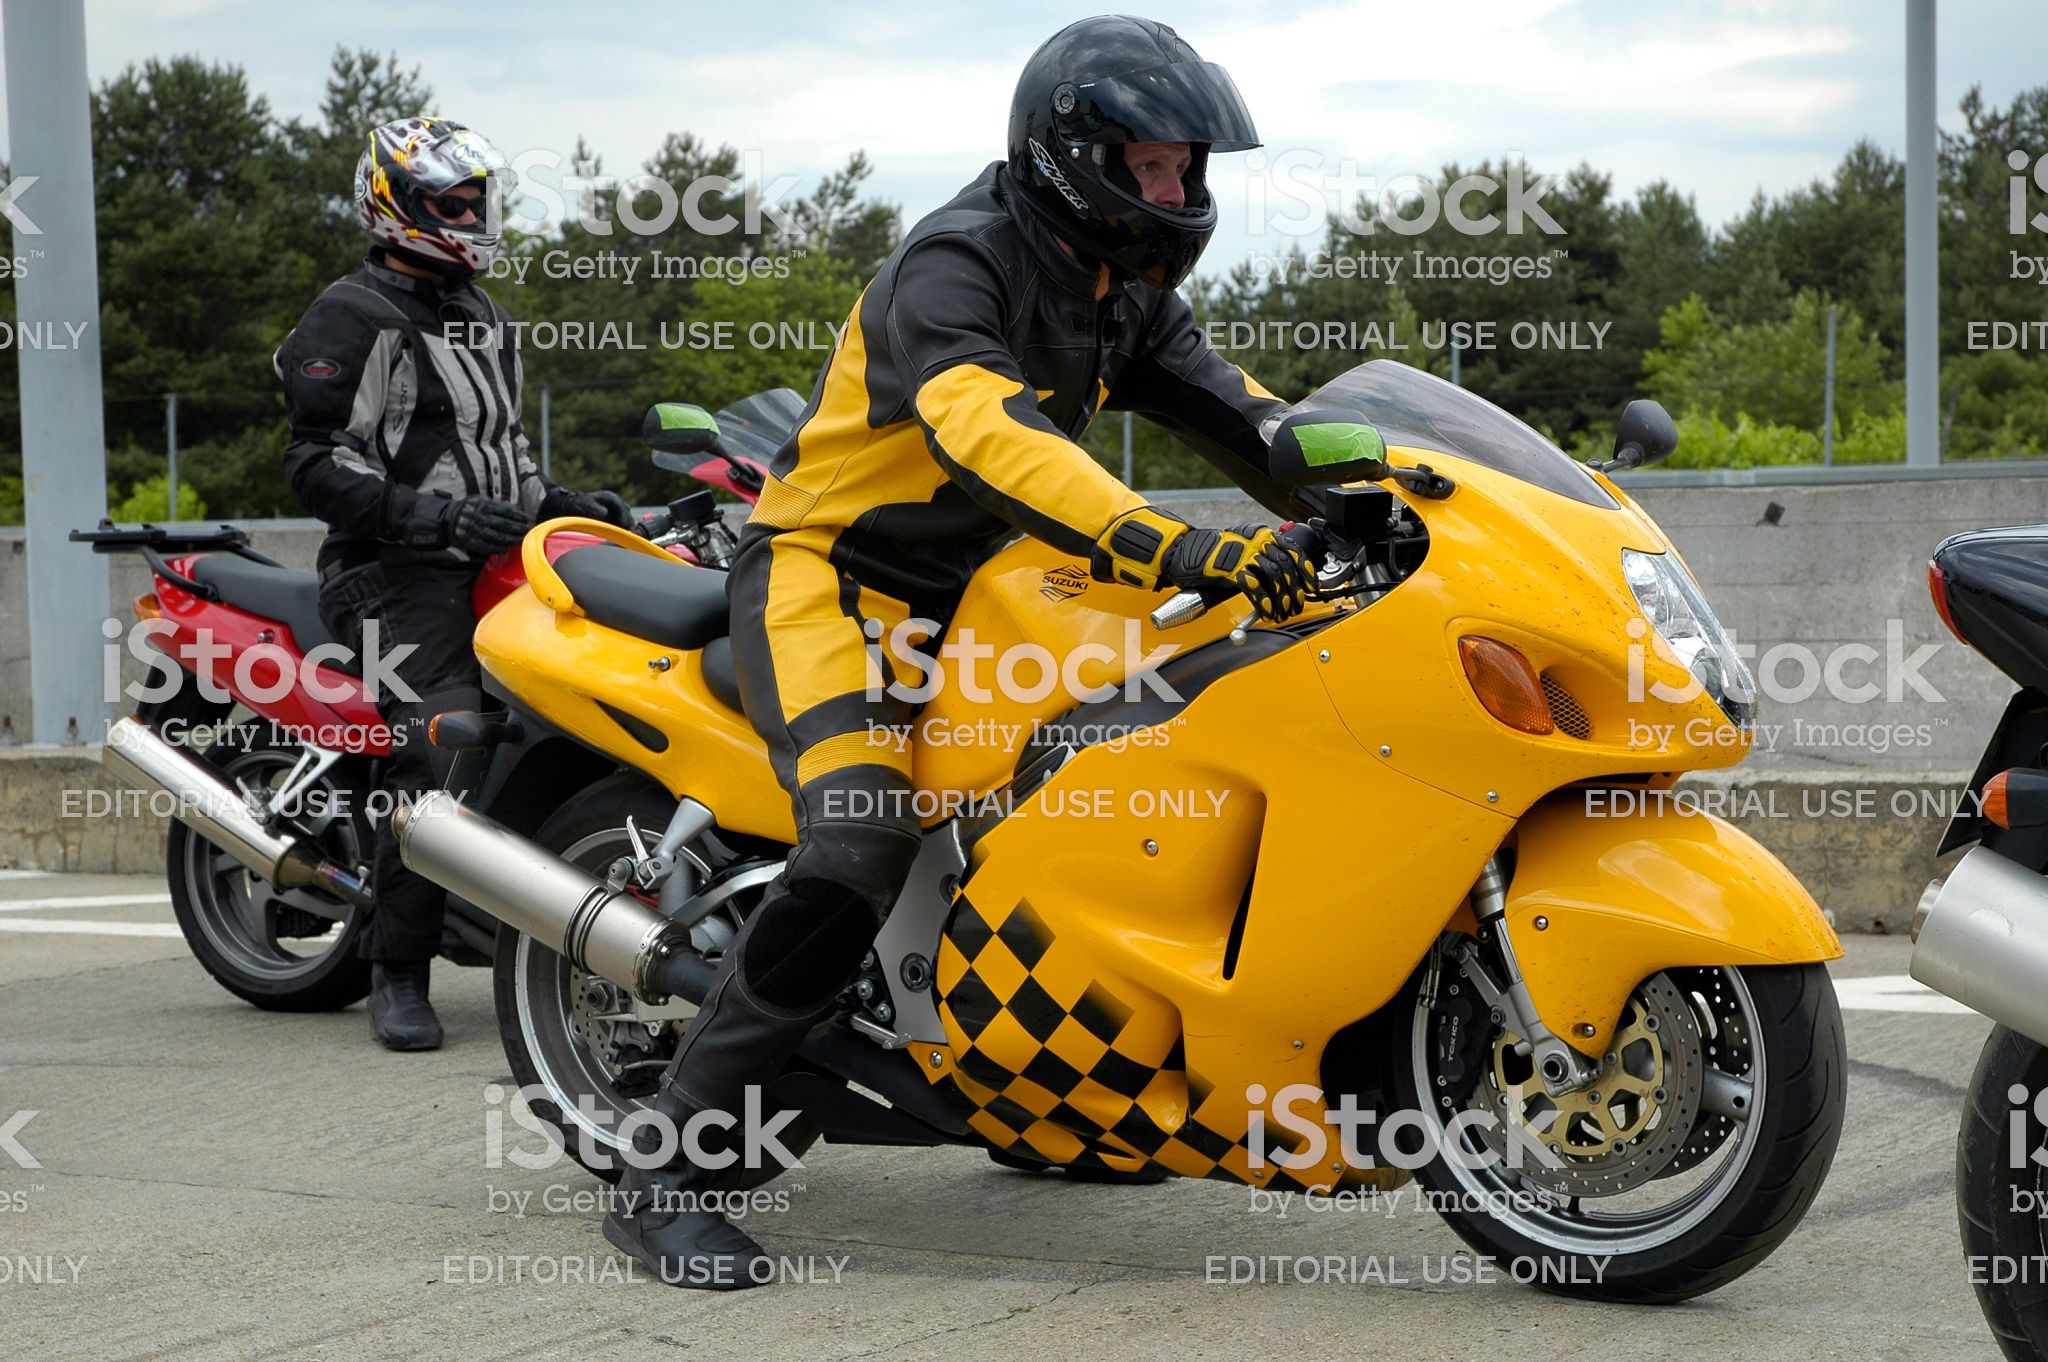helmet: (1000, 18, 1246, 263), (349, 100, 533, 290)
